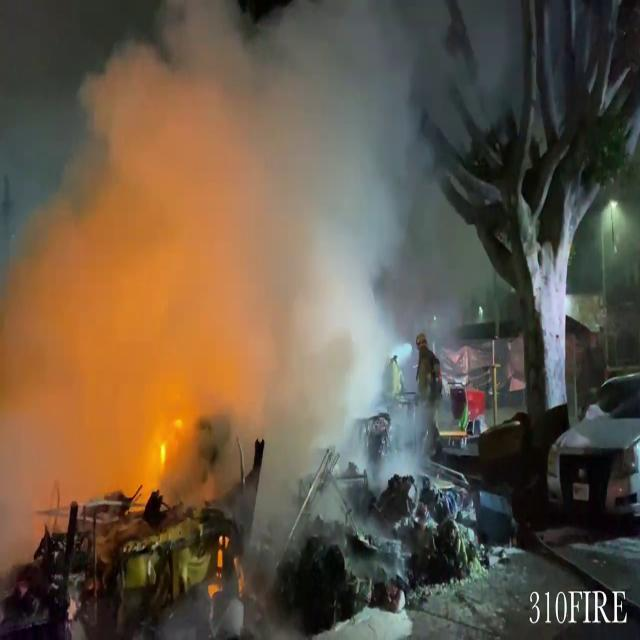Smoke: (1, 0, 482, 507)
